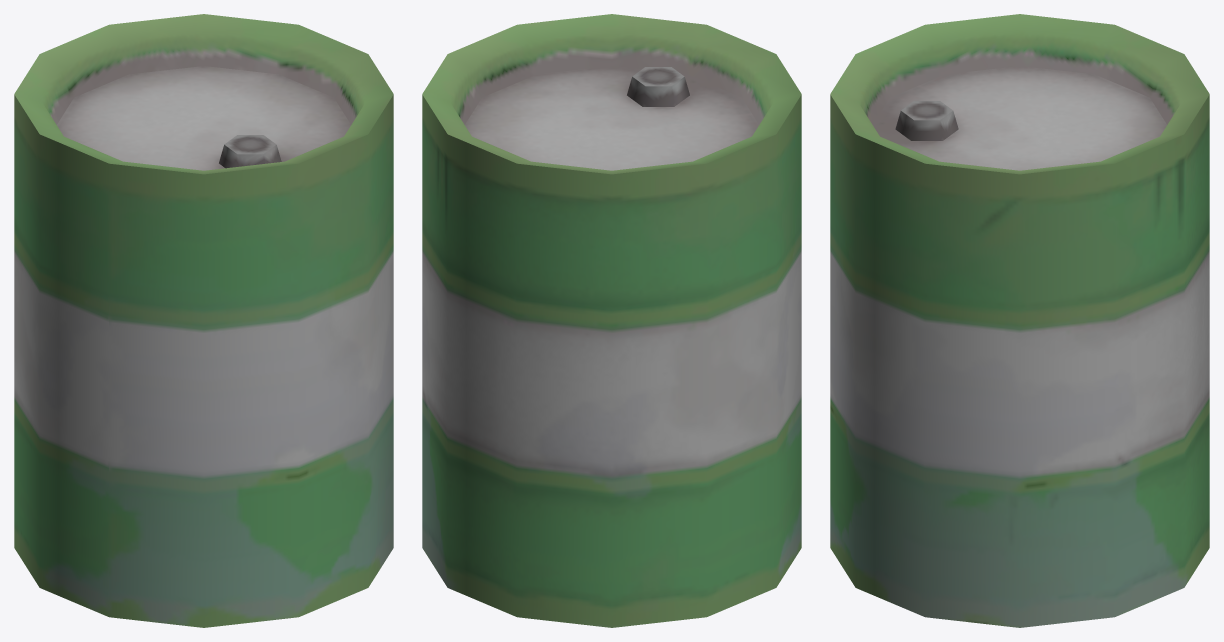
Rendered from Pfb_OilBarrel01__2.fbx.
3 views of the same model, side by side, from view 1: azimuth 30°, elevation 25°; view 2: azimuth 150°, elevation 25°; view 3: azimuth 270°, elevation 25° (orthographic).
Parts seen in each view (by area): view 1: Mat_StreetAssets01_1; view 2: Mat_StreetAssets01_1; view 3: Mat_StreetAssets01_1.
Part boxes in pixels (x1,y1,x2,y2): Mat_StreetAssets01_1: [14, 14, 393, 627]; Mat_StreetAssets01_1: [422, 14, 801, 627]; Mat_StreetAssets01_1: [830, 14, 1209, 627].
Size of the model in its own units: 0.9588 by 1.26 by 0.9588.
1 material, 1 textured.
